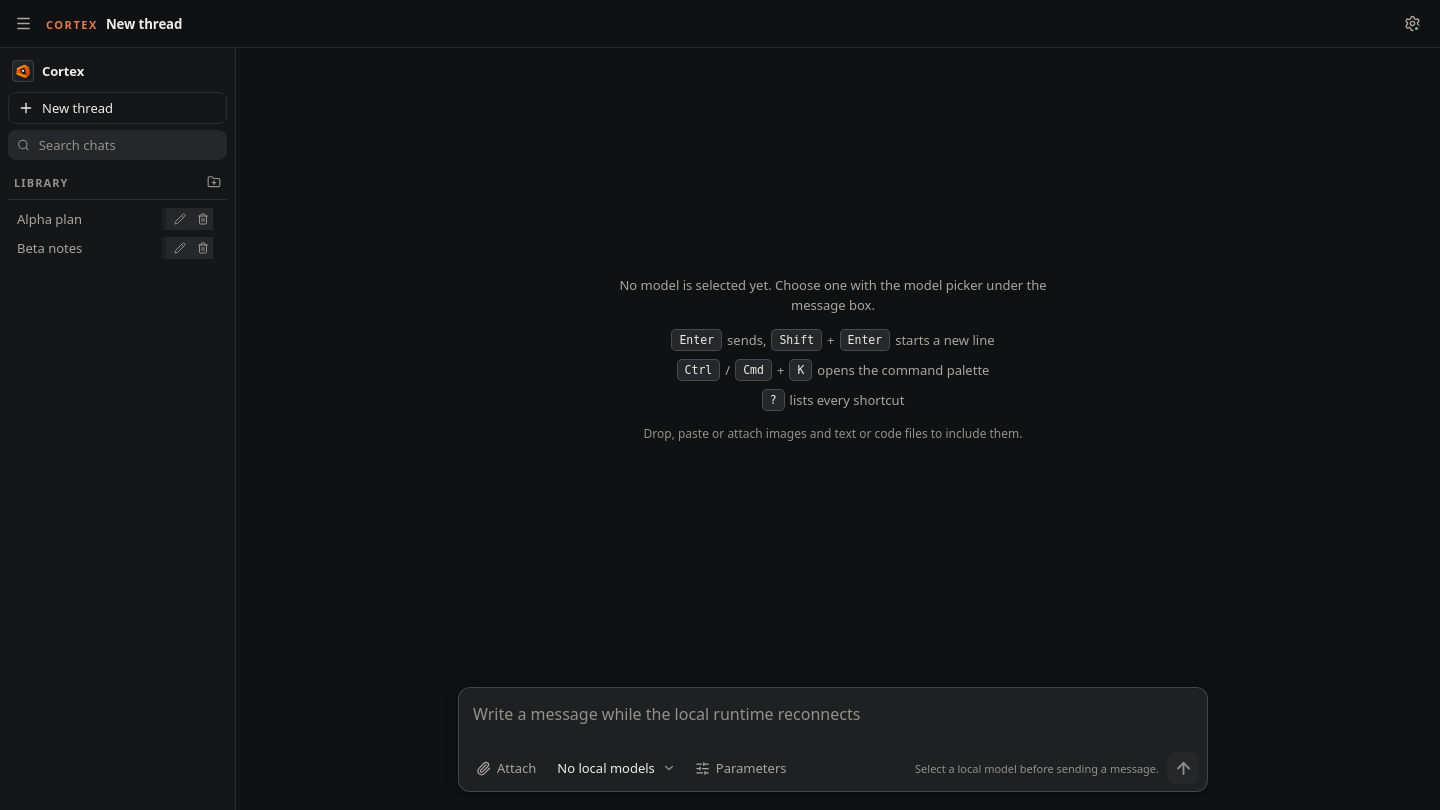
it: App chat deletion with Undo › keeps a chat hidden while its Undo window is open even if the list is refilled from the server
Click the button named "Delete Alpha plan" at coordinates (202, 219), box top-left (191, 208), bottom-right (213, 230)
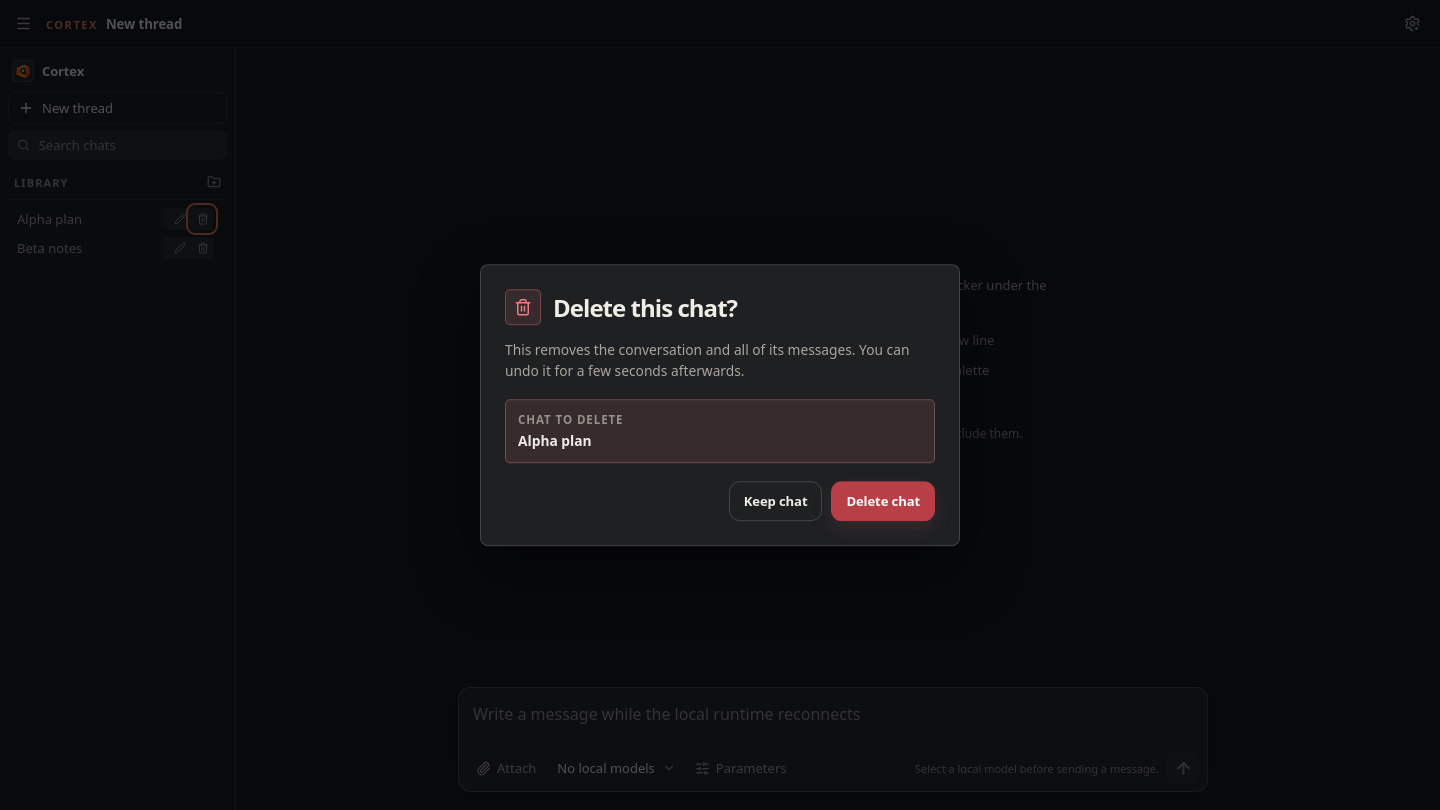
Click the button "Delete chat" at coordinates (883, 501), box top-left (831, 481), bottom-right (935, 521)
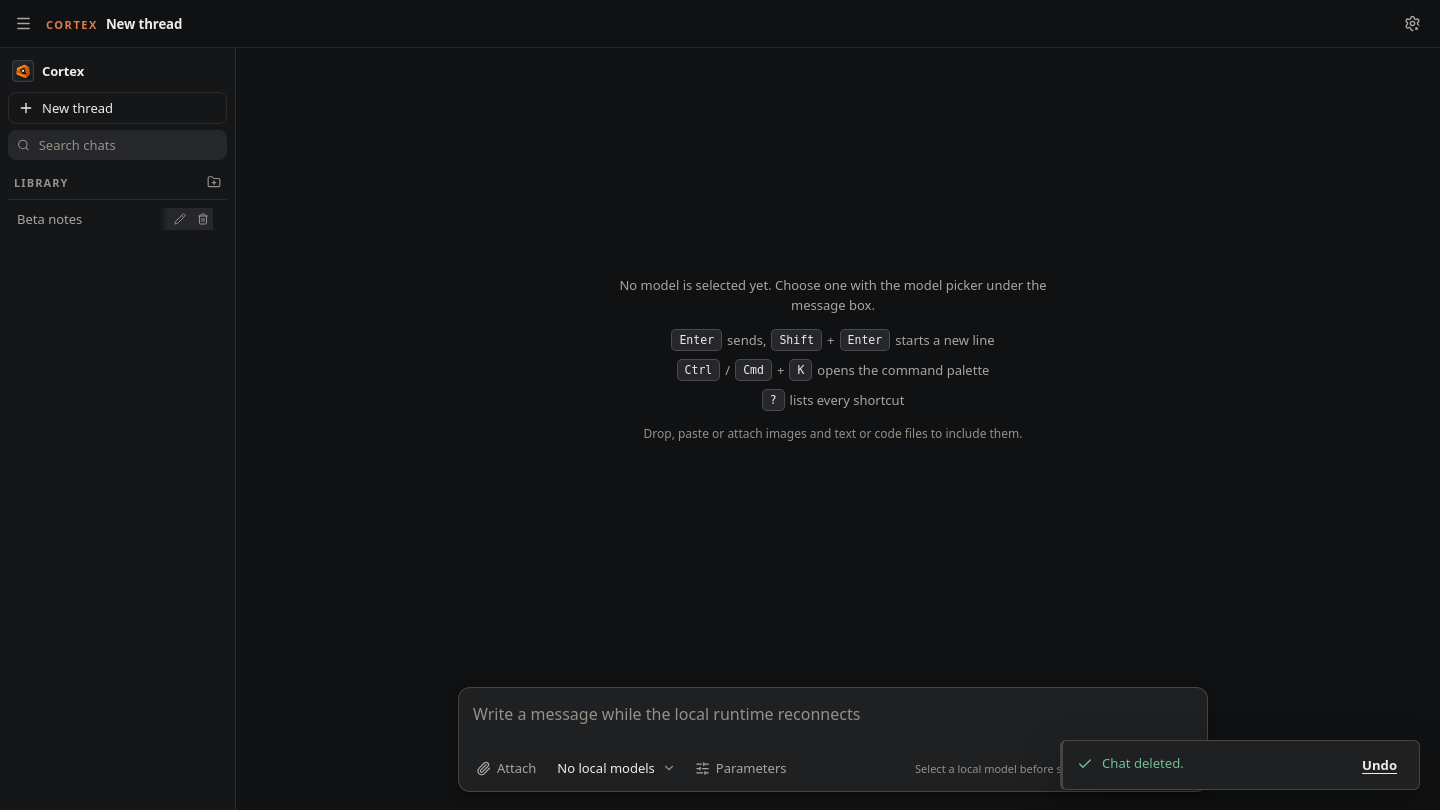
Result: the button "delete Alpha plan" is gone
